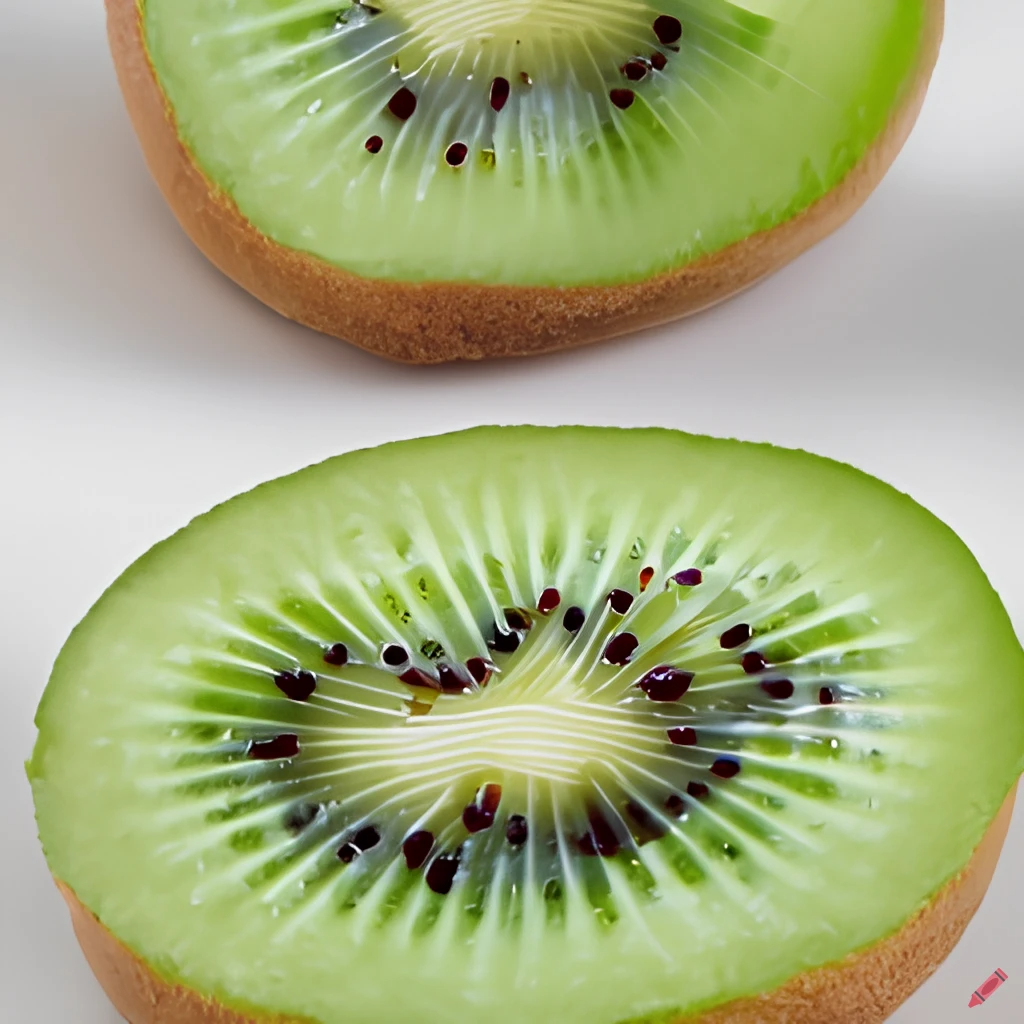Kiwi: (84, 0, 956, 378)
